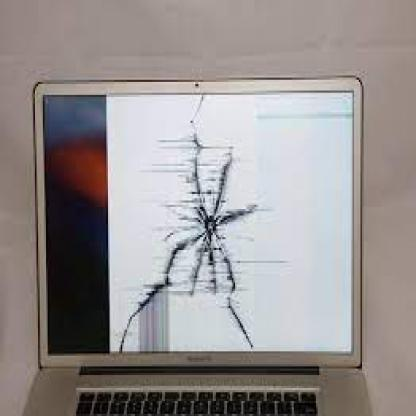crack: (105, 95, 289, 353)
